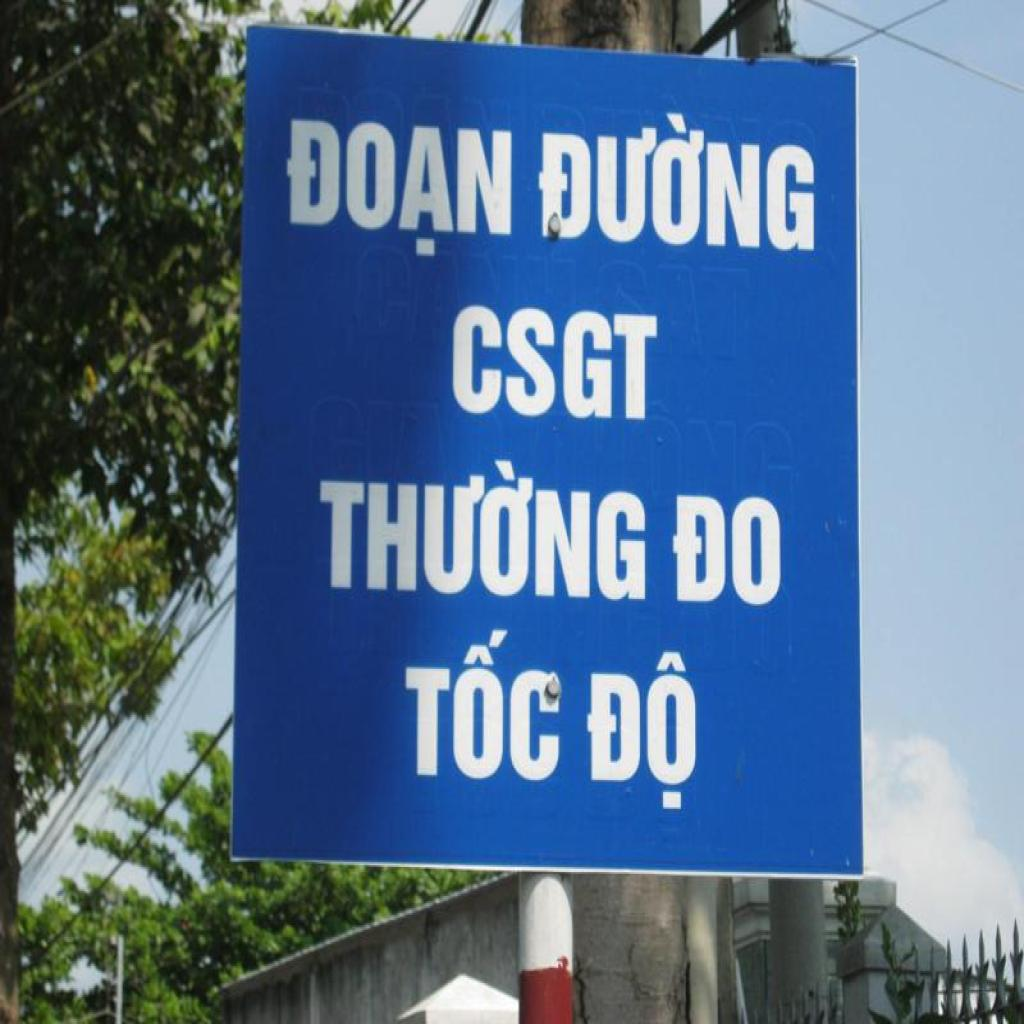text: (315, 452, 651, 604), (534, 104, 819, 260), (280, 109, 516, 268), (448, 295, 662, 425), (402, 623, 566, 788), (670, 490, 784, 611)
